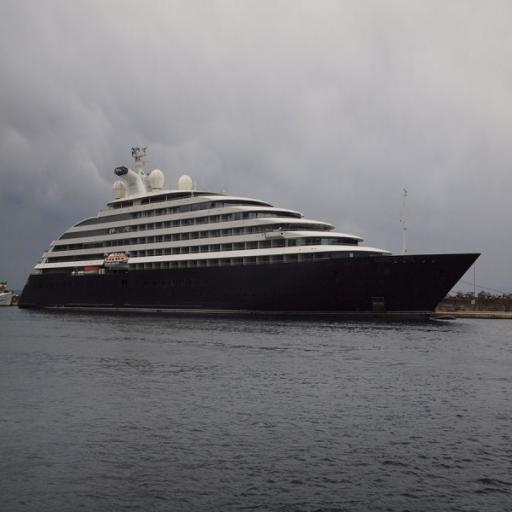cruises: (17, 130, 486, 327)
